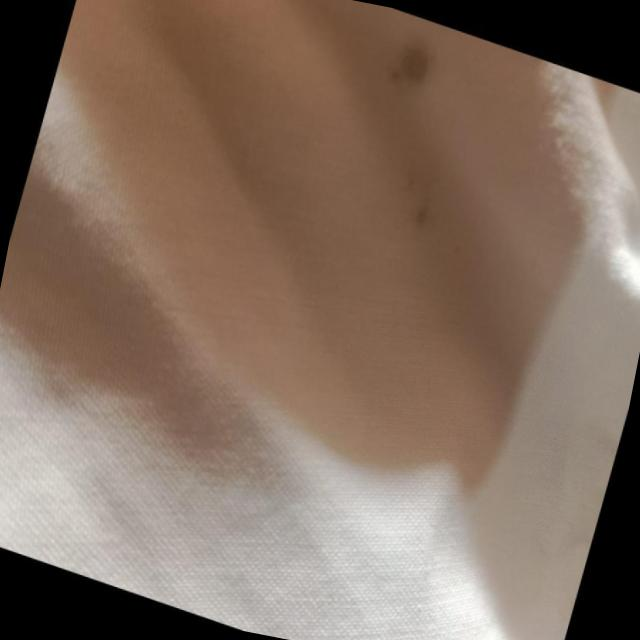stain: (342, 24, 488, 240)
